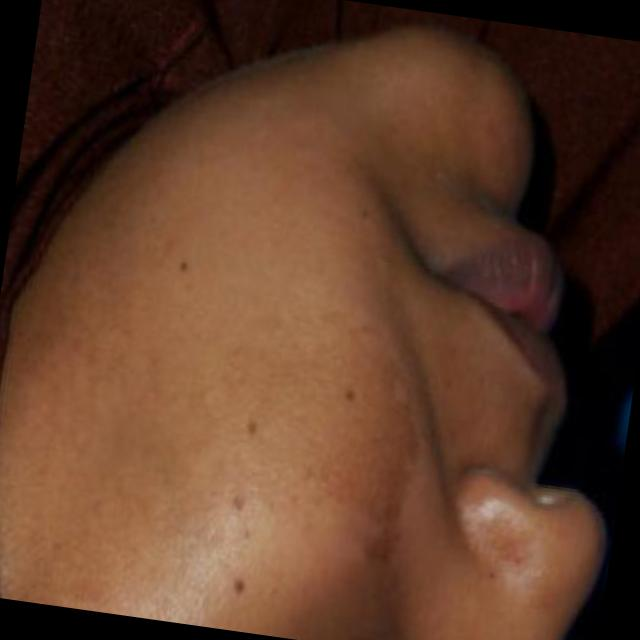melasma: (0, 92, 446, 640)
